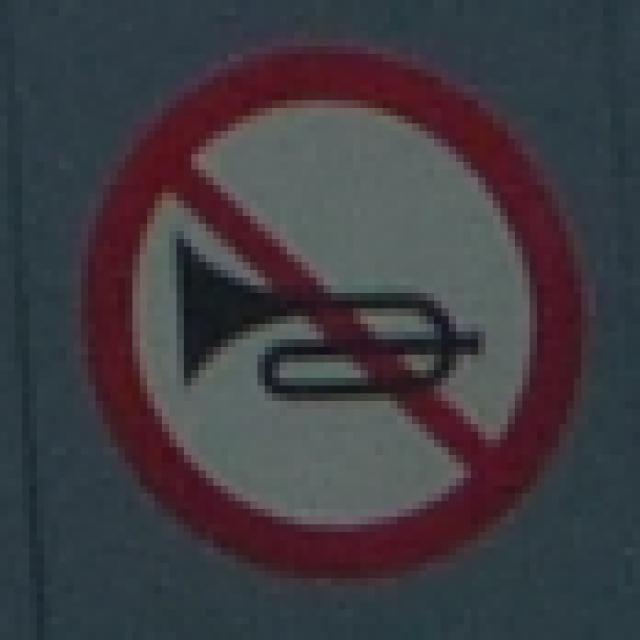No Horn: (79, 45, 597, 573)
